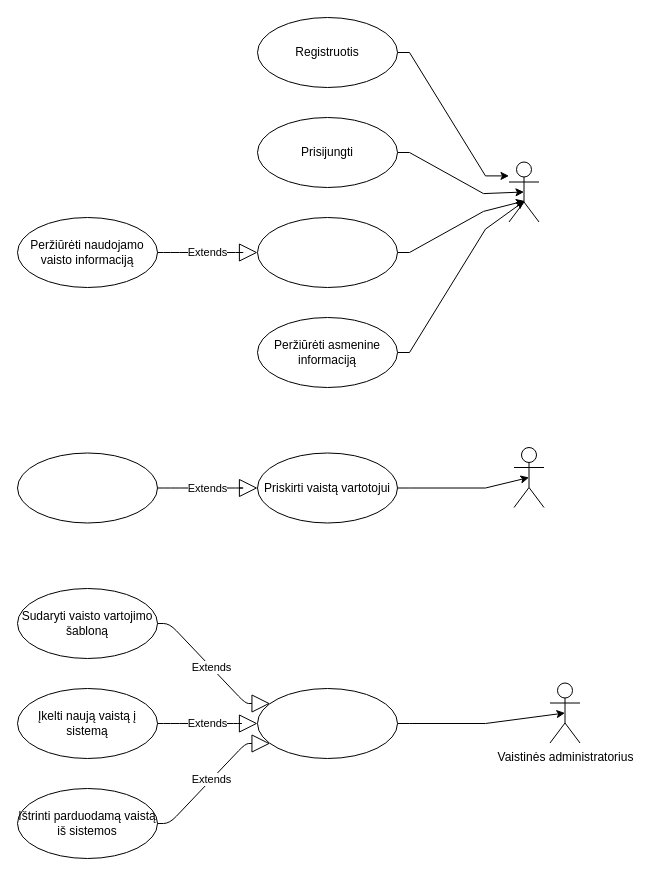
The diagram is 650 pixels wide and 876 high, and some of its shapes have lost their labels. Here are the shapes that lost their labels. From the top down, the centre of each, then its label:
At point (523, 191): "Vartotojas".
At point (327, 252): "Peržiūrėti naudojamų vaistų sąrašą".
At point (87, 487): "Pritaikyti suasmenintą vartojimo būdą".
At point (528, 477): "Vaistininkas".
At point (327, 723): "Peržiūrėti parduodamu vaistų sąrašą".
